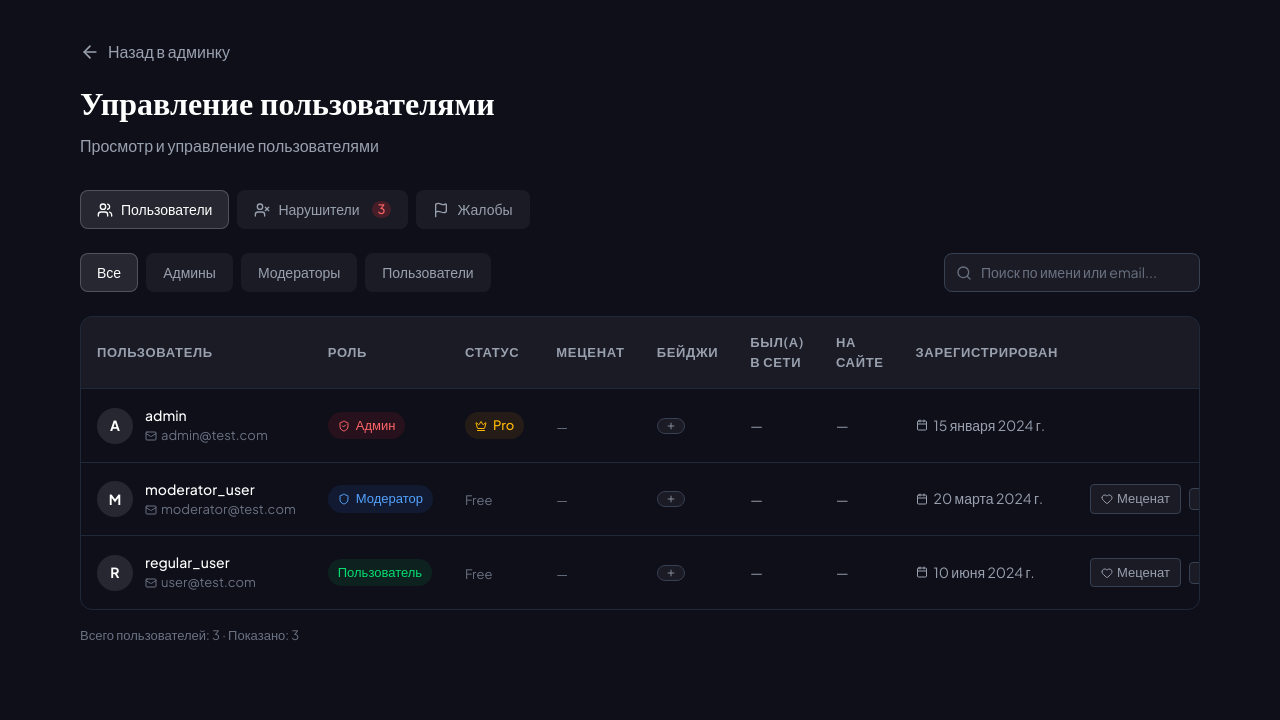
Test case: AdminUsersPage — жалобы › должен отображать пустое состояние когда нет флагов
Click the button "Жалобы".
click(473, 210)  # box [416,190,530,229]
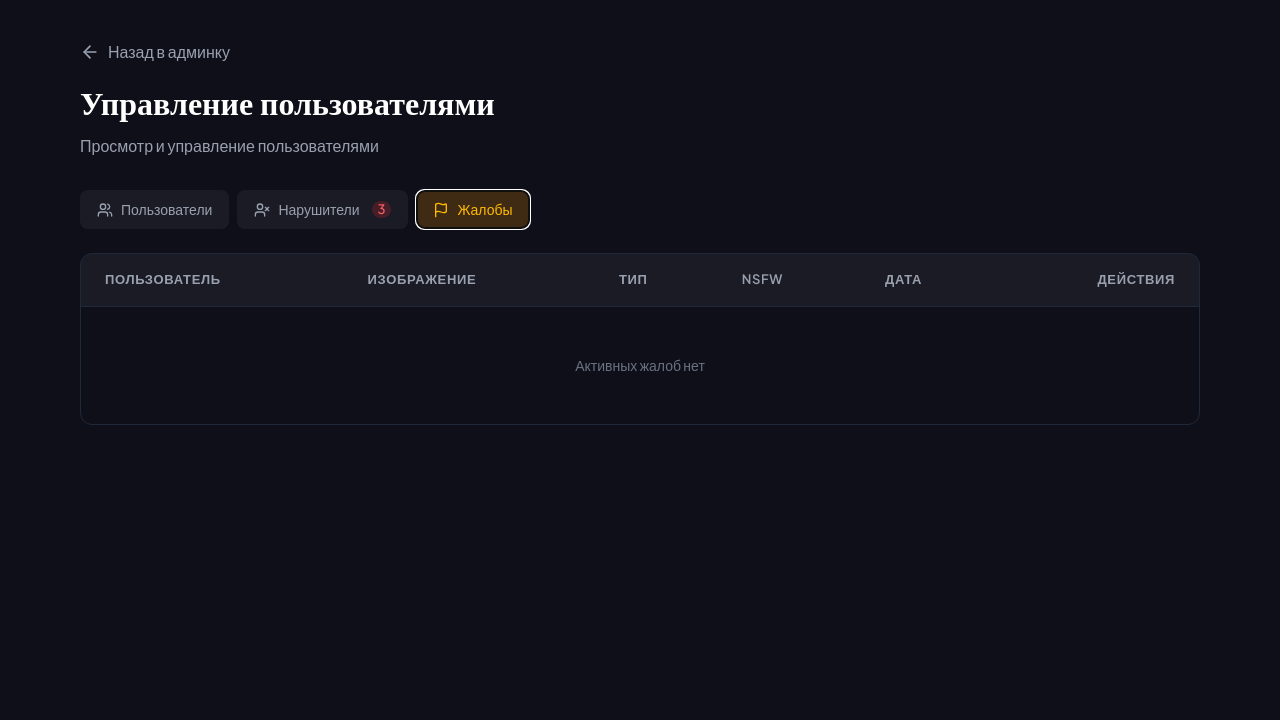
Check: the text "Активных жалоб нет" is shown, box [81,306,1199,424]
